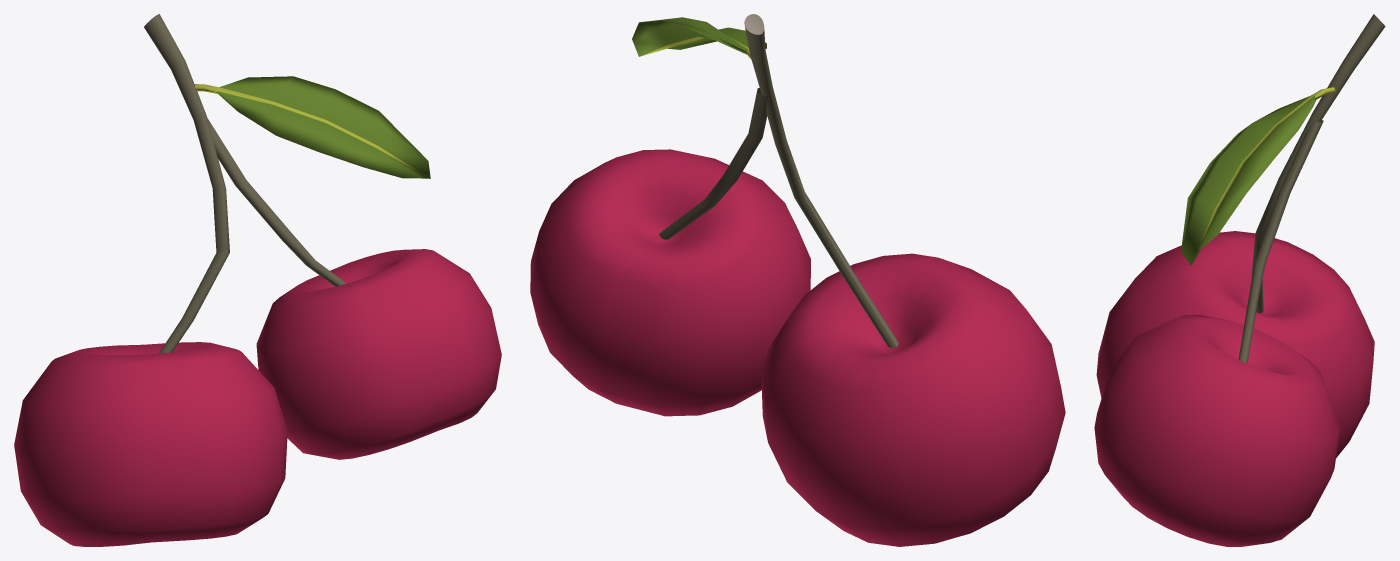
Rendered from SM_Fruits_Cherries_2.fbx.
3 views of the same model, side by side, from view 1: azimuth 30°, elevation 25°; view 2: azimuth 150°, elevation 25°; view 3: azimuth 270°, elevation 25° (orthographic). The views are drawn at different scales.
Visible parts, largest first — view 1: SM_Fruits_Cherries_2; view 2: SM_Fruits_Cherries_2; view 3: SM_Fruits_Cherries_2.
Boxes of the visible parts, x1,y1,x2,y2 form: SM_Fruits_Cherries_2: (14,14,501,546); SM_Fruits_Cherries_2: (530,14,1065,546); SM_Fruits_Cherries_2: (1094,14,1385,546).
Bounding box in the file's own units: 10.71 × 10.83 × 5.78.
